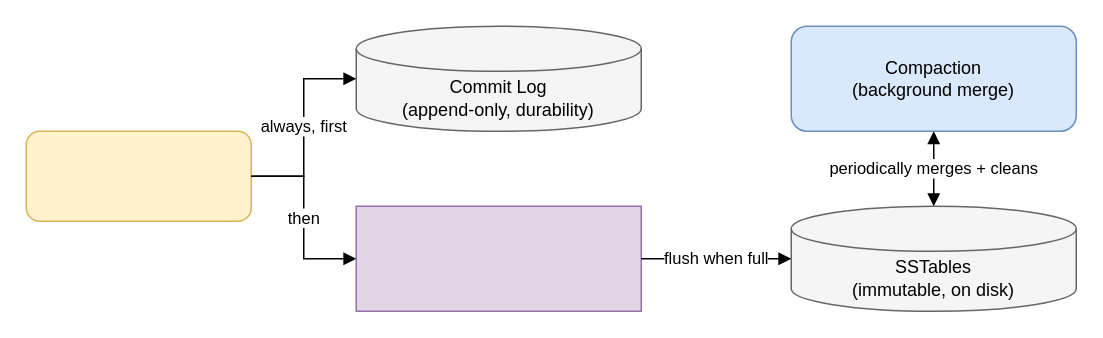
Some shapes in this 1103 by 338 pixel diagram are drawn without their labels. The shapes that lost their labels are listed below. From the top down, each one's centre as x and y in pixels, then its label:
the point at 138,175: Incoming write
the point at 498,258: Memtable (in-memory, sorted)
